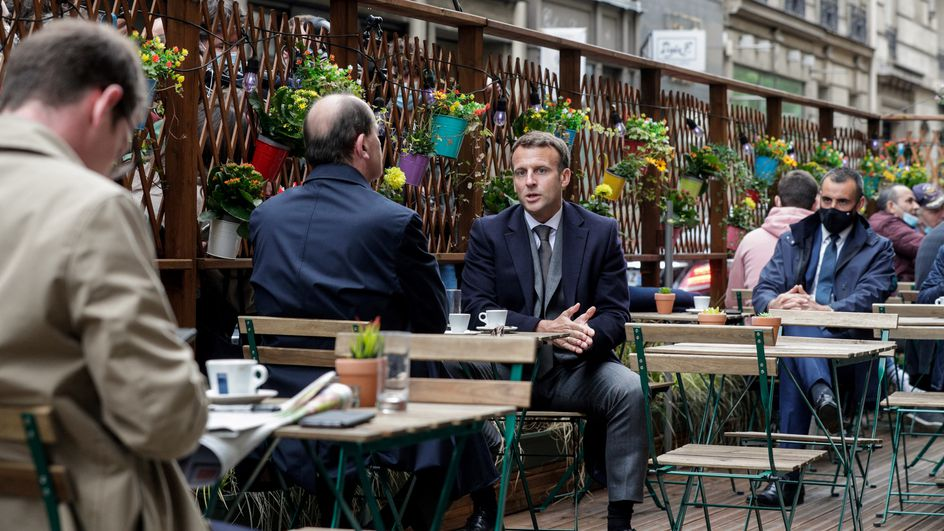with_incorrect_mask: (881, 189, 920, 226)
with_mask: (823, 177, 856, 229)
without_mask: (514, 147, 561, 212)
